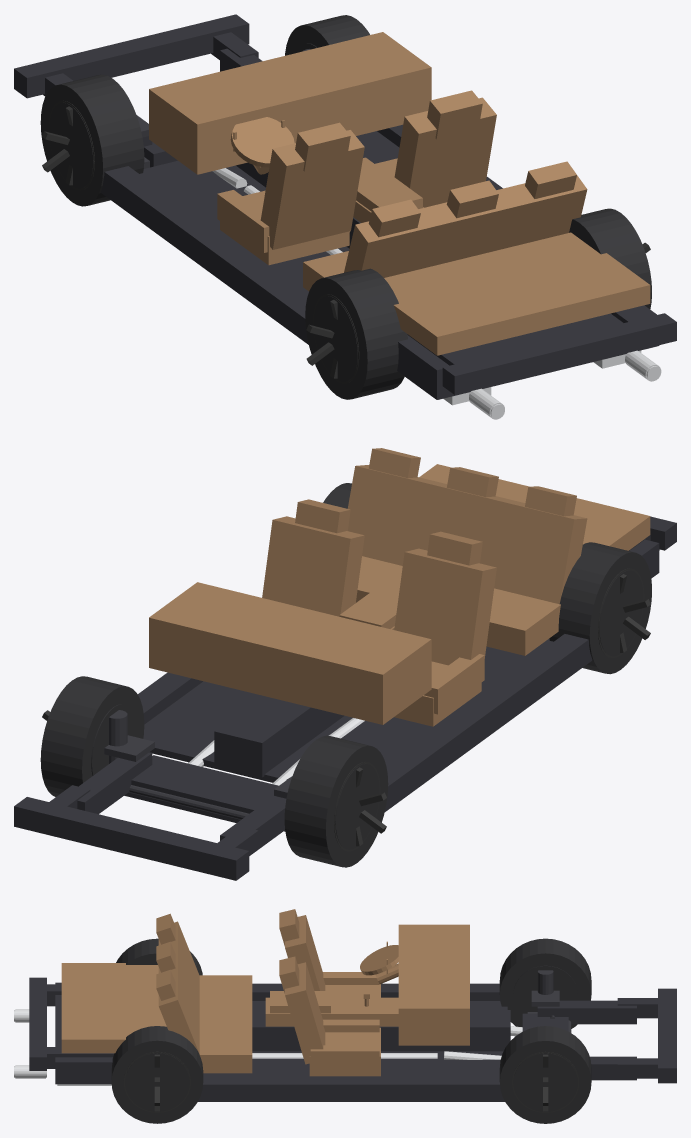
Rendered from Car_Dodge_Charger_Hellcat_2010s_Chassis.glb.
3 renders of one model, top to bottom at view 1: azimuth 30°, elevation 25°; view 2: azimuth 150°, elevation 25°; view 3: azimuth 270°, elevation 25°, orthographic. The views are drawn at different scales.
Visible parts, largest first — view 1: Charger_Interior_Cockpit, Charger_Platform_Chassis, Charger_Tire_RL, Charger_Tire_FL, Charger_Tire_RR, Charger_Exhaust_System, Charger_Tire_FR, Charger_Wheel_RL, Charger_Wheel_FL; view 2: Charger_Interior_Cockpit, Charger_Platform_Chassis, Charger_Tire_FL, Charger_Tire_RL, Charger_Tire_FR, Charger_Suspension_RunningGear, Charger_Wheel_FL, Charger_Wheel_RL, Charger_Exhaust_System; view 3: Charger_Interior_Cockpit, Charger_Platform_Chassis, Charger_Tire_FR, Charger_Tire_RR, Charger_Tire_FL, Charger_Exhaust_System, Charger_Suspension_RunningGear, Charger_Tire_RL, Charger_Wheel_FR, Charger_Wheel_RR.
Boxes of the visible parts, x1,y1,x2,y2 form: Charger_Interior_Cockpit: (149,32,650,355); Charger_Platform_Chassis: (14,14,676,399); Charger_Tire_RL: (305,268,407,399); Charger_Tire_FL: (40,74,144,206); Charger_Tire_RR: (569,208,651,308); Charger_Exhaust_System: (212,168,661,419); Charger_Tire_FR: (285,15,369,55); Charger_Wheel_RL: (306,294,359,383); Charger_Wheel_FL: (42,100,94,190); Charger_Interior_Cockpit: (149,448,650,726); Charger_Platform_Chassis: (14,516,676,880); Charger_Tire_FL: (284,735,388,867); Charger_Tire_RL: (549,542,651,674); Charger_Tire_FR: (40,676,144,796); Charger_Suspension_RunningGear: (104,710,292,831); Charger_Wheel_FL: (334,762,386,851); Charger_Wheel_RL: (598,568,650,657); Charger_Exhaust_System: (188,549,659,785); Charger_Interior_Cockpit: (61,909,469,1076); Charger_Platform_Chassis: (29,977,676,1101); Charger_Tire_FR: (499,1026,591,1123); Charger_Tire_RR: (111,1026,203,1123); Charger_Tire_FL: (499,938,591,1028); Charger_Exhaust_System: (14,1009,522,1085); Charger_Suspension_RunningGear: (527,970,571,1032); Charger_Tire_RL: (116,938,202,975); Charger_Wheel_FR: (512,1051,579,1112); Charger_Wheel_RR: (123,1051,190,1112).
Bounding box in the file's own units: 2.28 × 1.15 × 5.2.
